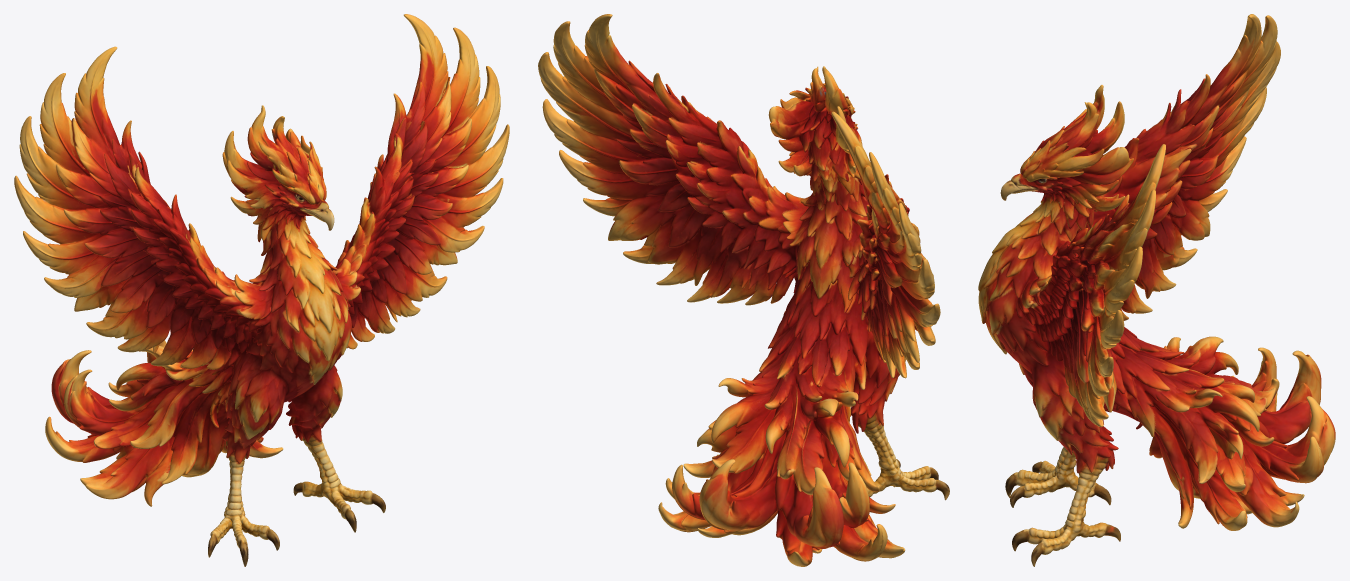
The model's file is chamrosh.glb.
3 views of the same model, side by side, from view 1: azimuth 30°, elevation 25°; view 2: azimuth 150°, elevation 25°; view 3: azimuth 270°, elevation 25° (orthographic). The views are drawn at different scales.
Visible parts, largest first — view 1: phoenix; view 2: phoenix; view 3: phoenix.
Part boxes in pixels (x1,y1,x2,y2): phoenix: [14, 14, 509, 566]; phoenix: [538, 14, 949, 566]; phoenix: [978, 14, 1335, 566].
Size of the model in its own units: 2.5 by 2.47 by 1.68.
1 material, 1 textured.
